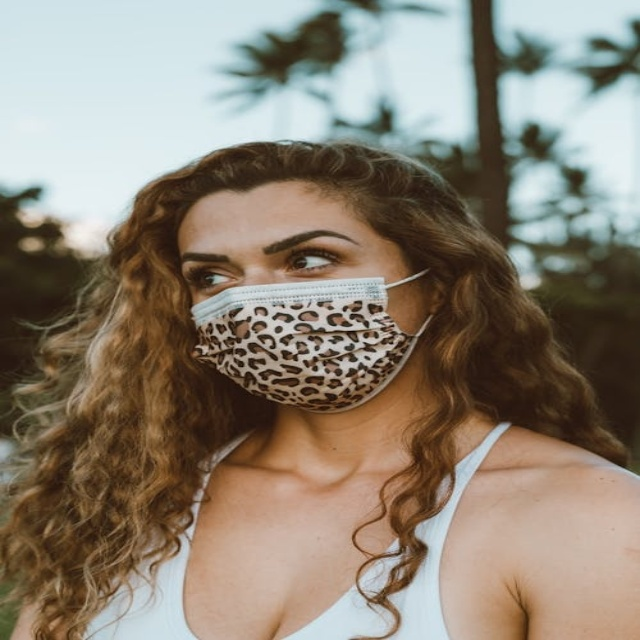Mascara: (187, 269, 438, 410)
Sin_gafas: (286, 252, 339, 272), (195, 268, 238, 289)
Sin_mascara: (282, 329, 378, 351)
